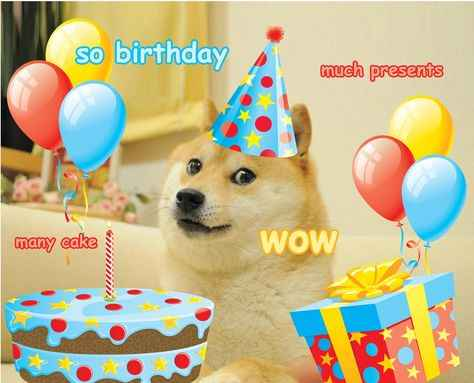doge: (159, 147, 307, 276)
